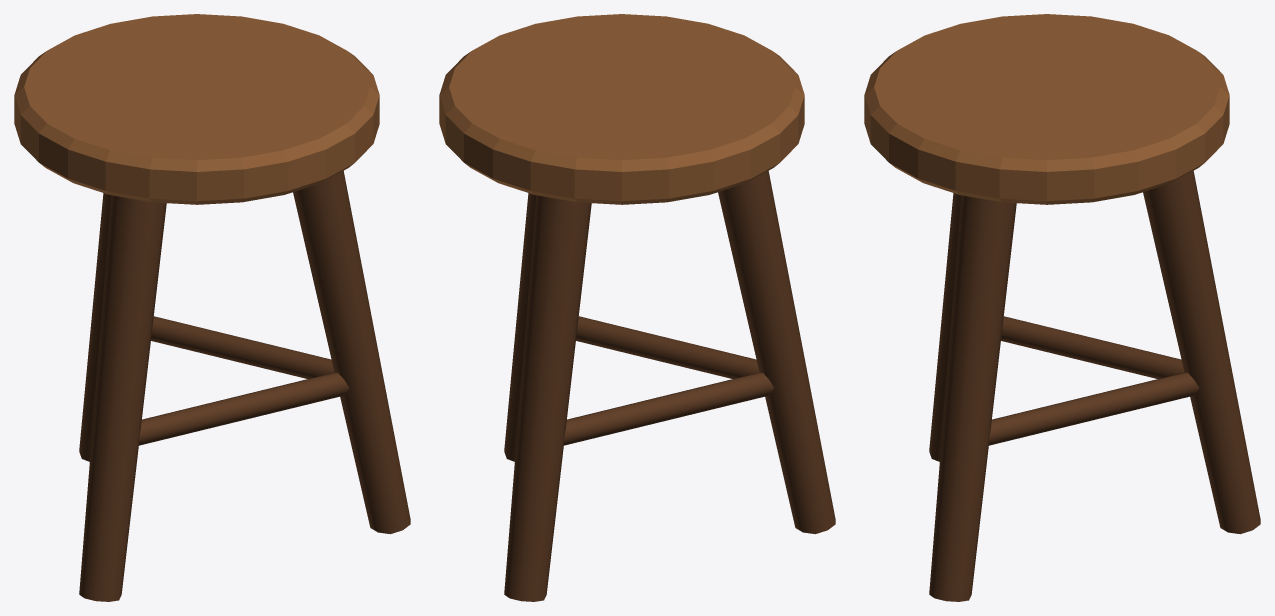
The model's file is wooden-stool_final.glb.
3 views of the same model, side by side, from view 1: azimuth 30°, elevation 25°; view 2: azimuth 150°, elevation 25°; view 3: azimuth 270°, elevation 25° (orthographic).
Parts seen in each view (by area): view 1: SM_WoodenStool_Seat, SM_WoodenStool; view 2: SM_WoodenStool_Seat, SM_WoodenStool; view 3: SM_WoodenStool_Seat, SM_WoodenStool.
Part boxes in pixels (x1,y1,x2,y2): SM_WoodenStool_Seat: (14,14,379,204); SM_WoodenStool: (79,171,410,601); SM_WoodenStool_Seat: (439,14,804,204); SM_WoodenStool: (504,171,835,601); SM_WoodenStool_Seat: (864,14,1229,204); SM_WoodenStool: (929,171,1260,601).
Bounding box in the file's own units: 0.3503 × 0.45 × 0.3687.
